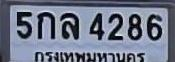2: (107, 12, 122, 39)
4: (89, 12, 103, 39)
5: (16, 11, 31, 38)
6: (146, 13, 161, 40)
8: (127, 13, 141, 38)
A01: (36, 11, 54, 38)
A36: (59, 12, 78, 38)
BKK: (33, 48, 146, 62)
